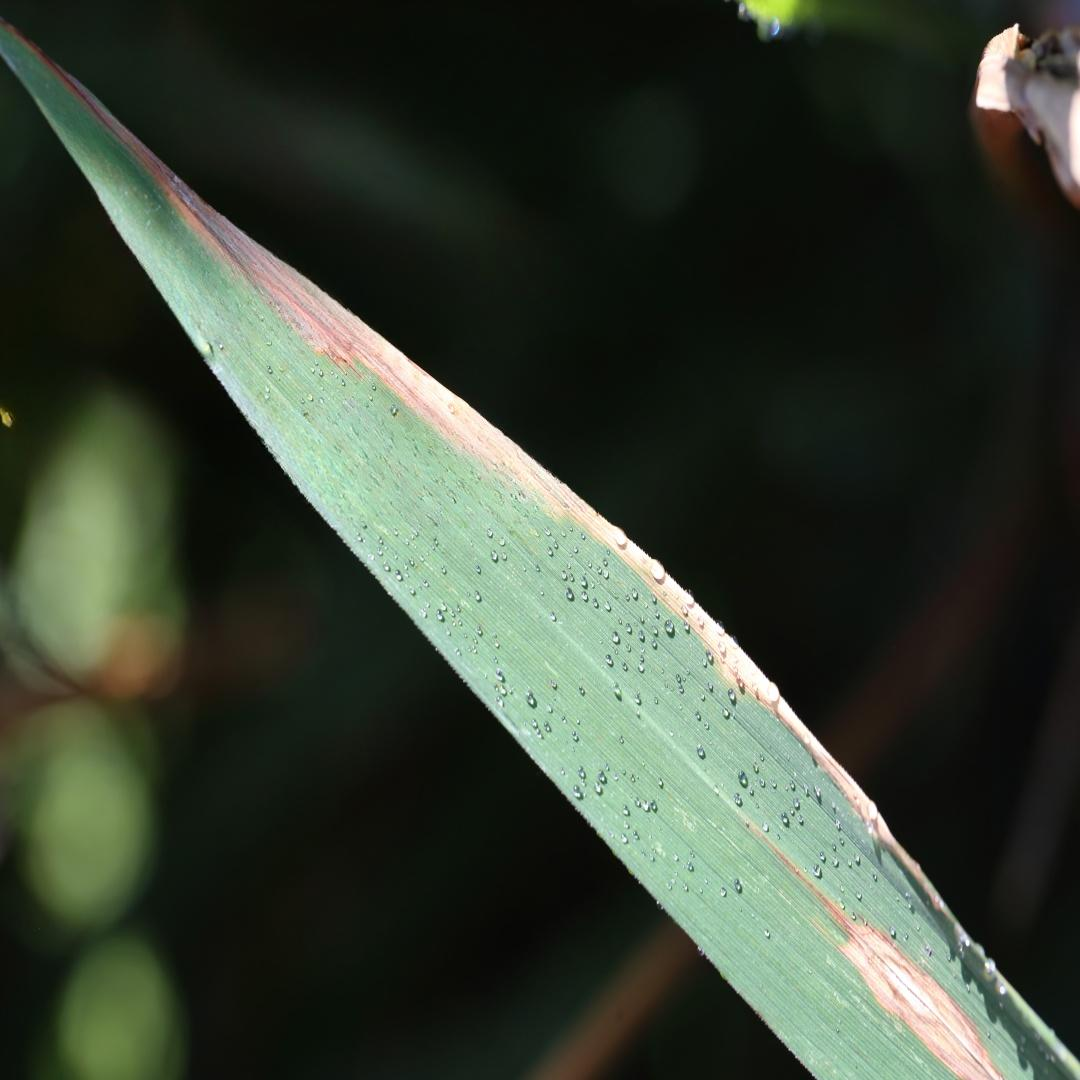BLB: (1, 21, 966, 936)
LEAF: (0, 19, 1079, 1079)
